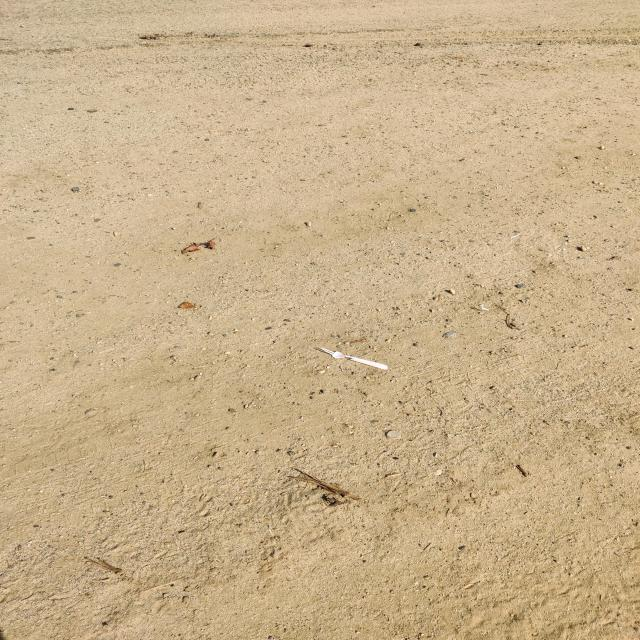litter: (318, 349, 396, 373)
